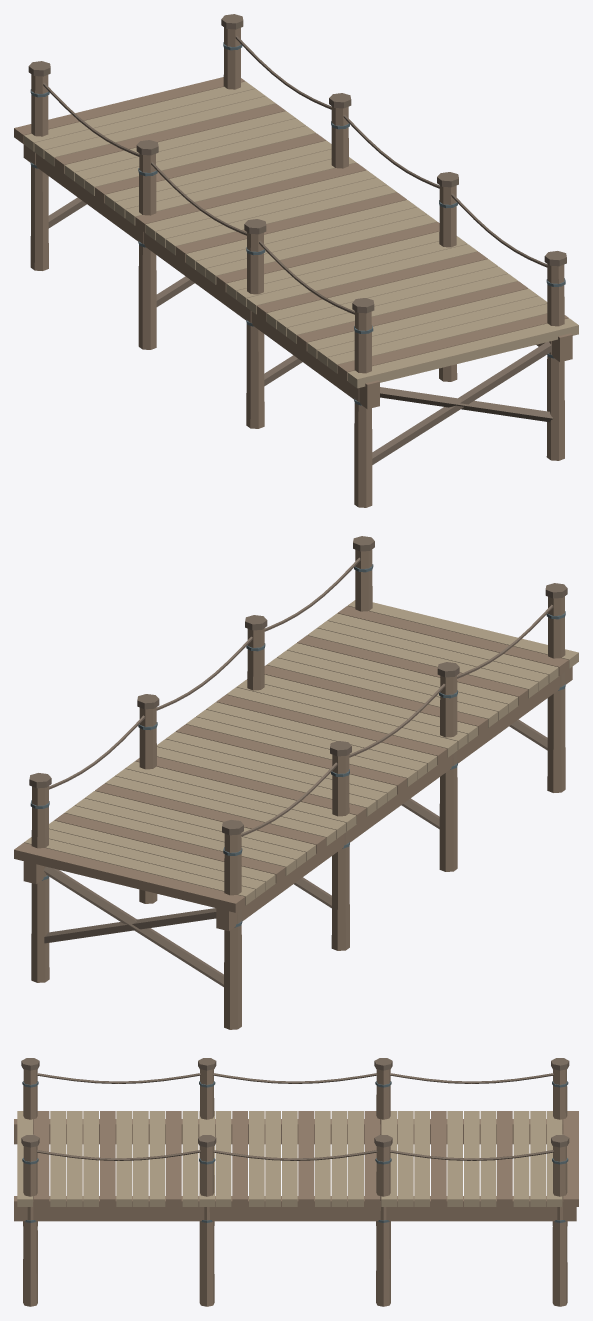
The model's file is RocksPierModule.fbx.
3 views of the same model, one above another, from view 1: azimuth 30°, elevation 25°; view 2: azimuth 150°, elevation 25°; view 3: azimuth 270°, elevation 25° (orthographic). The views are drawn at different scales.
Visible parts, largest first — view 1: DeckSurface, PileStructure, RopeRails; view 2: DeckSurface, PileStructure, RopeRails; view 3: DeckSurface, PileStructure, RopeRails.
Boxes of the visible parts, x1,y1,x2,y2 form: DeckSurface: (14, 77, 578, 388); PileStructure: (23, 14, 572, 507); RopeRails: (43, 36, 547, 314); DeckSurface: (14, 600, 578, 912); PileStructure: (23, 536, 572, 1029); RopeRails: (49, 557, 553, 836); DeckSurface: (17, 1111, 578, 1206); PileStructure: (14, 1058, 576, 1306); RopeRails: (37, 1073, 553, 1160).
Bounding box in the file's own units: 3.8 × 3.3 × 10.24.
